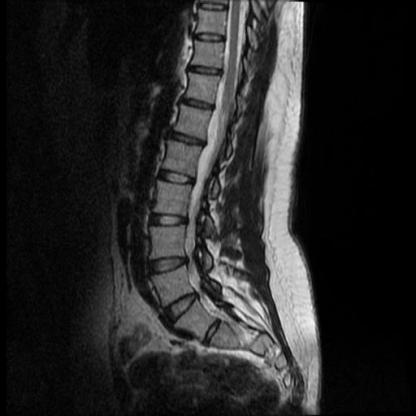Annular Disc Relaxationrotation: (148, 252, 189, 278), (164, 292, 202, 320)
Degenerative Disc Diseaserotation: (149, 253, 188, 279), (164, 293, 199, 318), (182, 96, 215, 113)
Disc Bulgerotation: (181, 95, 216, 114)
